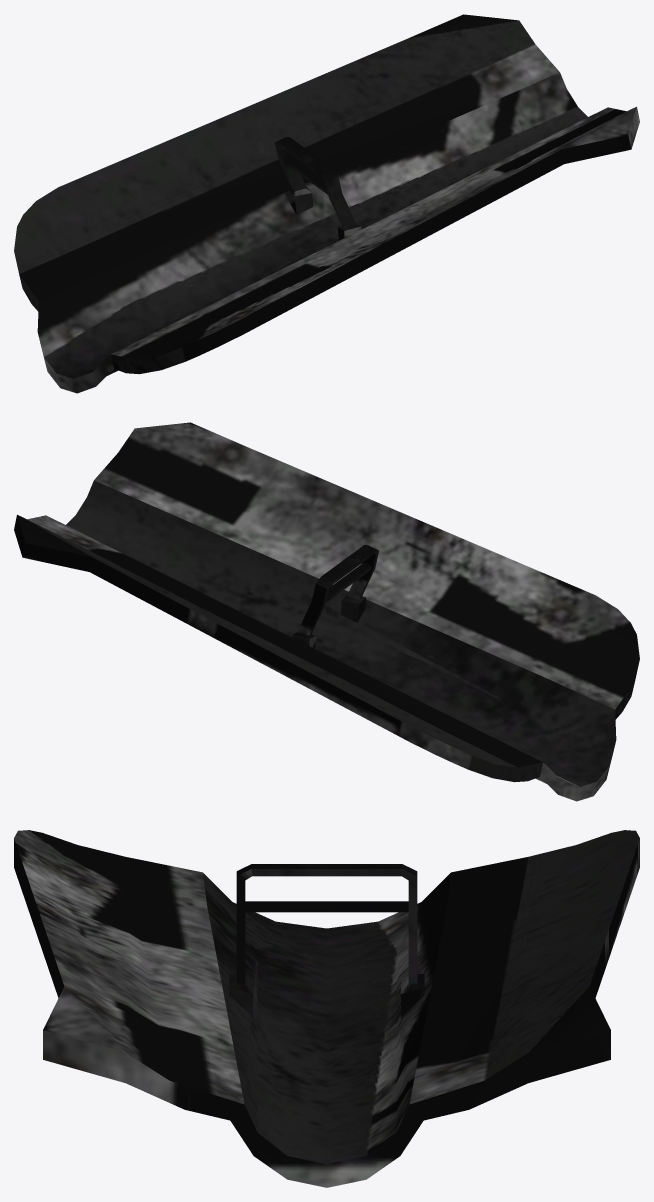
3 renders of one model, top to bottom at view 1: azimuth 30°, elevation 25°; view 2: azimuth 150°, elevation 25°; view 3: azimuth 270°, elevation 25°, orthographic. The views are drawn at different scales.
Parts seen in each view (by area): view 1: mesh_0; view 2: mesh_0; view 3: mesh_0.
Part boxes in pixels (x1,y1,x2,y2): mesh_0: [14, 14, 639, 393]; mesh_0: [14, 422, 639, 801]; mesh_0: [14, 830, 639, 1187].
Size of the model in its own units: 46.81 by 16.54 by 27.42.
Materials: 1 (1 with a texture image).
